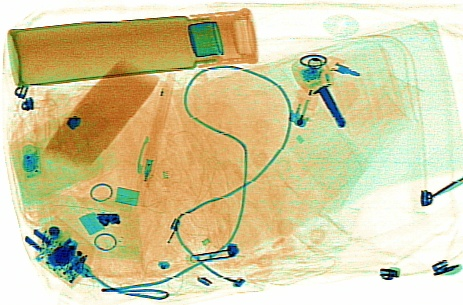lighter: (288, 60, 330, 128)
